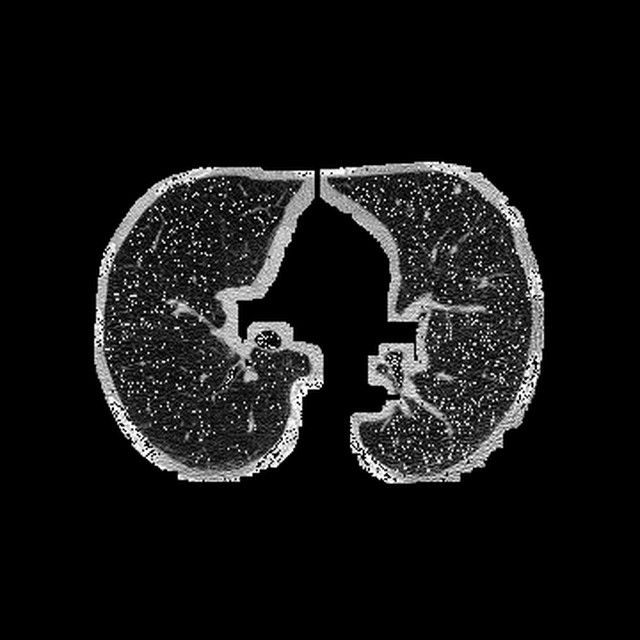PN: (453, 185, 460, 192)
